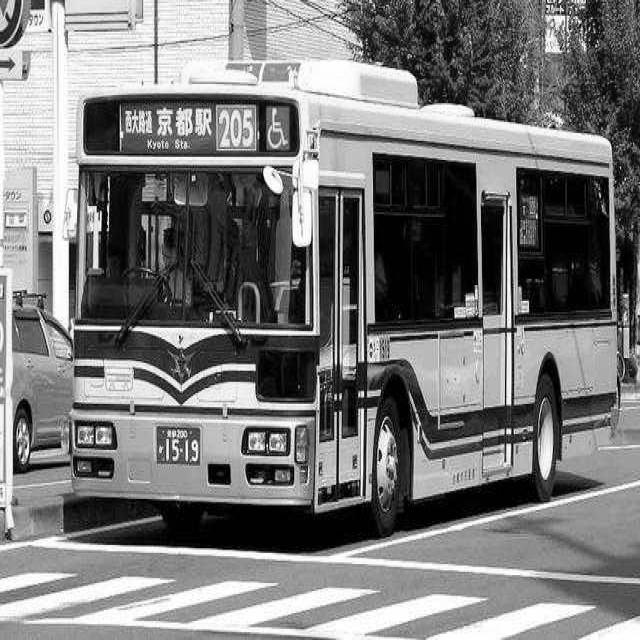Bus: (70, 61, 616, 530)
Car: (12, 305, 74, 468)
